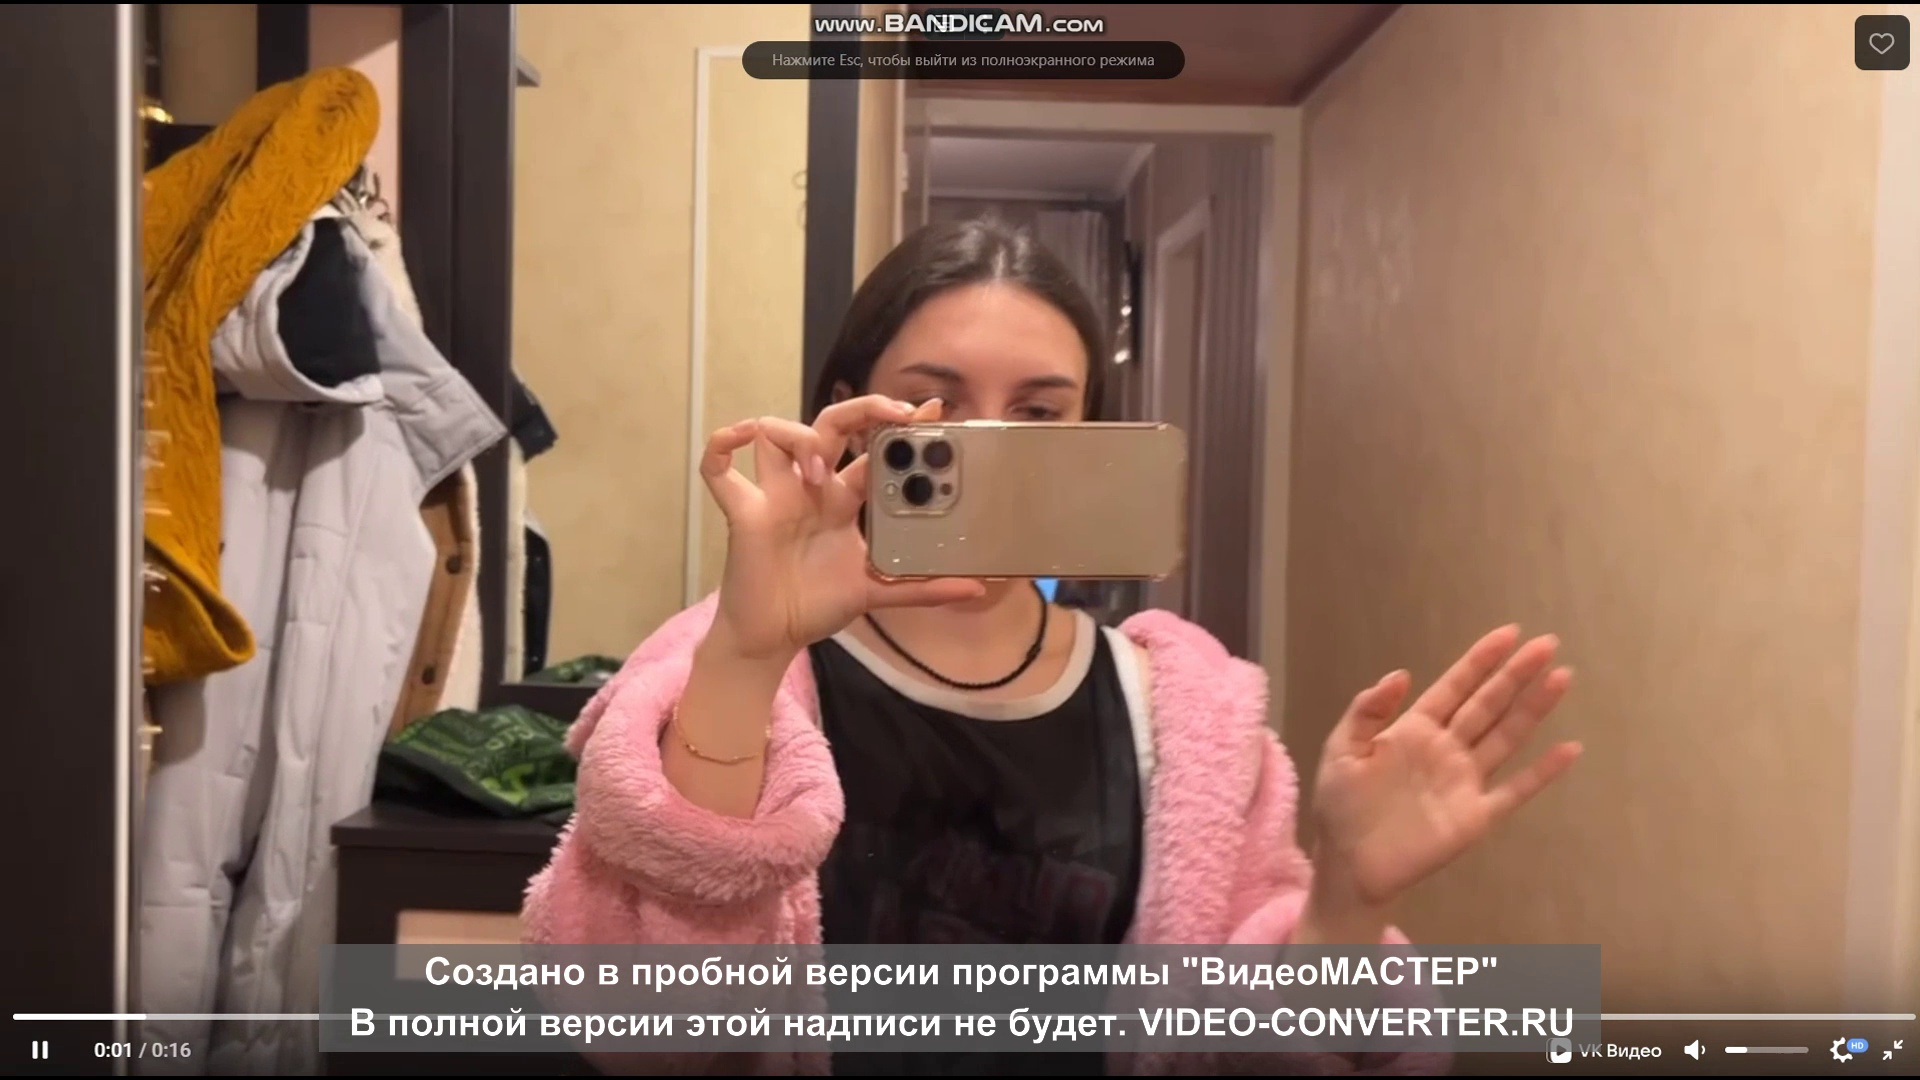Ладонь: (1307, 624, 1581, 891)
